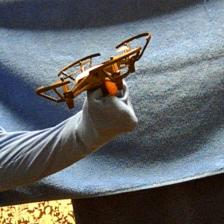drone: (36, 32, 153, 111)
